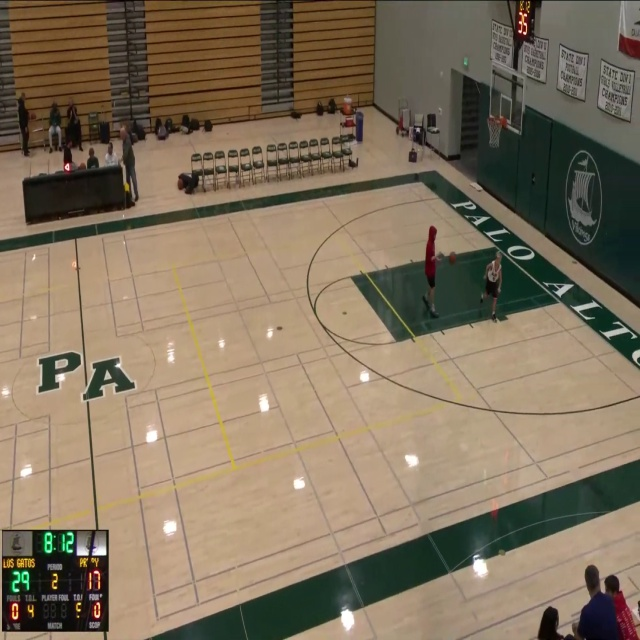Basketball: (448, 252, 456, 264), (177, 178, 184, 190)
